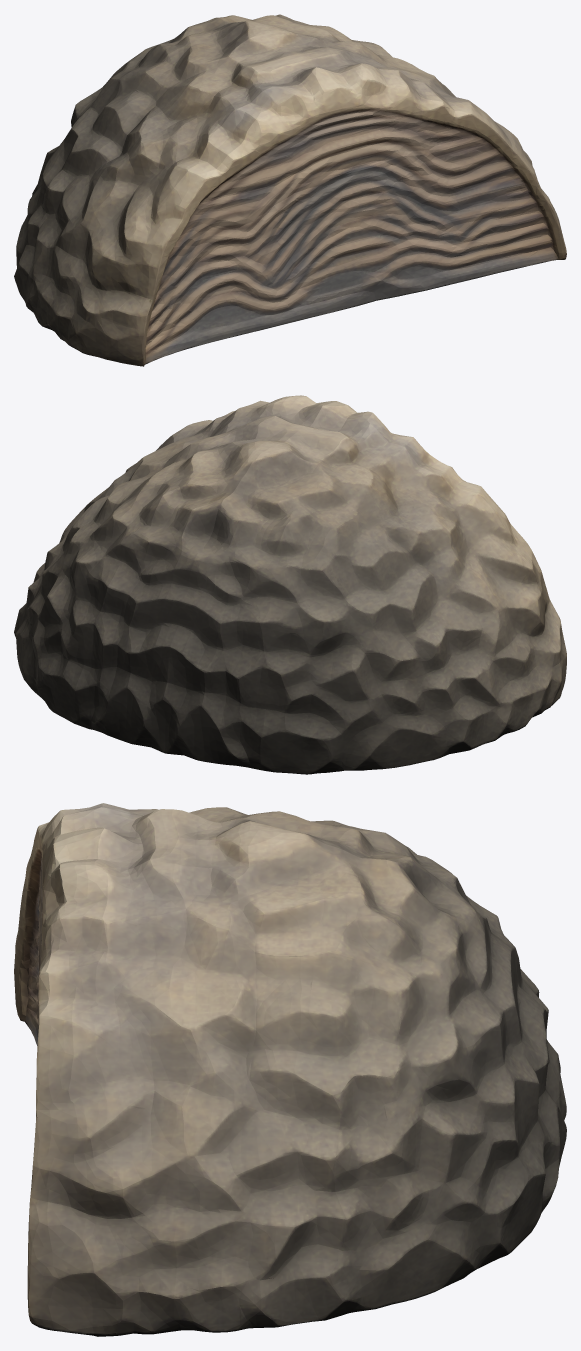
3 views of the same model, one above another, from view 1: azimuth 30°, elevation 25°; view 2: azimuth 150°, elevation 25°; view 3: azimuth 270°, elevation 25° (orthographic). The views are drawn at different scales.
Parts seen in each view (by area): view 1: world; view 2: world; view 3: world.
Part boxes in pixels (bbox=[...]): world: bbox=[14, 14, 566, 366]; world: bbox=[14, 395, 566, 774]; world: bbox=[14, 803, 566, 1336].
Bounding box in the file's own units: 1 × 0.4678 × 0.6825.
1 material, 1 textured.
